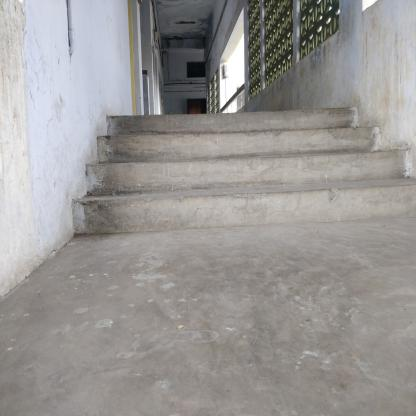stairs: (108, 117, 398, 218)
